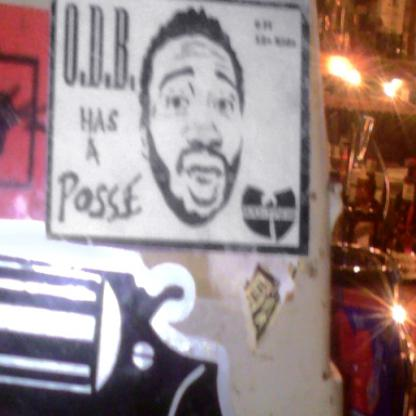gun: (0, 226, 263, 415)
